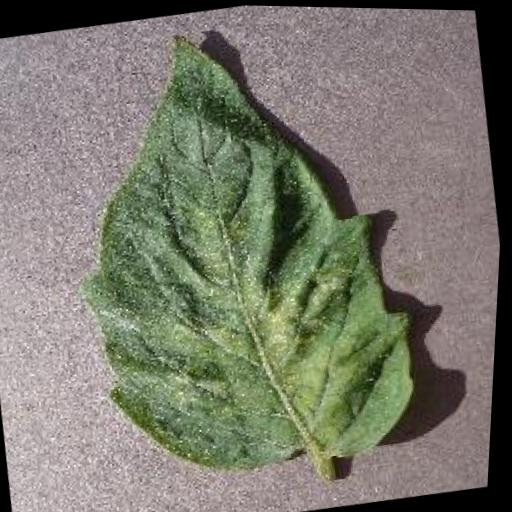Spider Mites: (37, 1, 443, 496)
